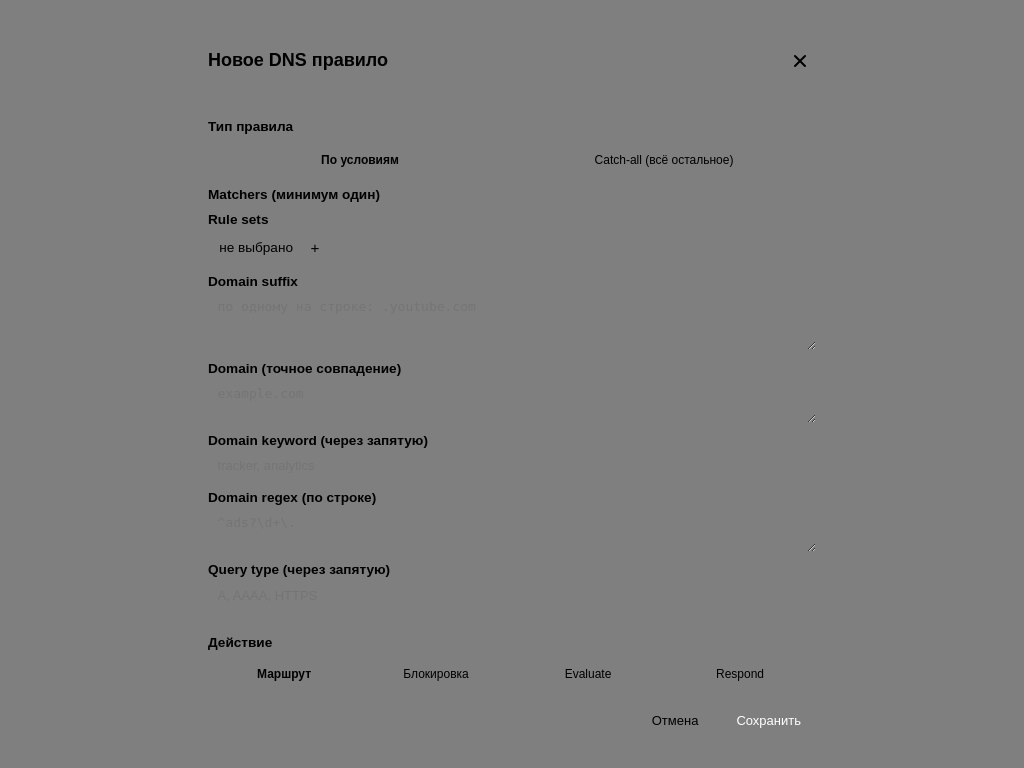
Test: DNSRuleEditModal › не предлагает geoip и IP rule-set для DNS-правила
What coordinates should you click on to do the following:
click the button "+"
I would click on:
 (315, 247)
Its box is [302,237,328,257].
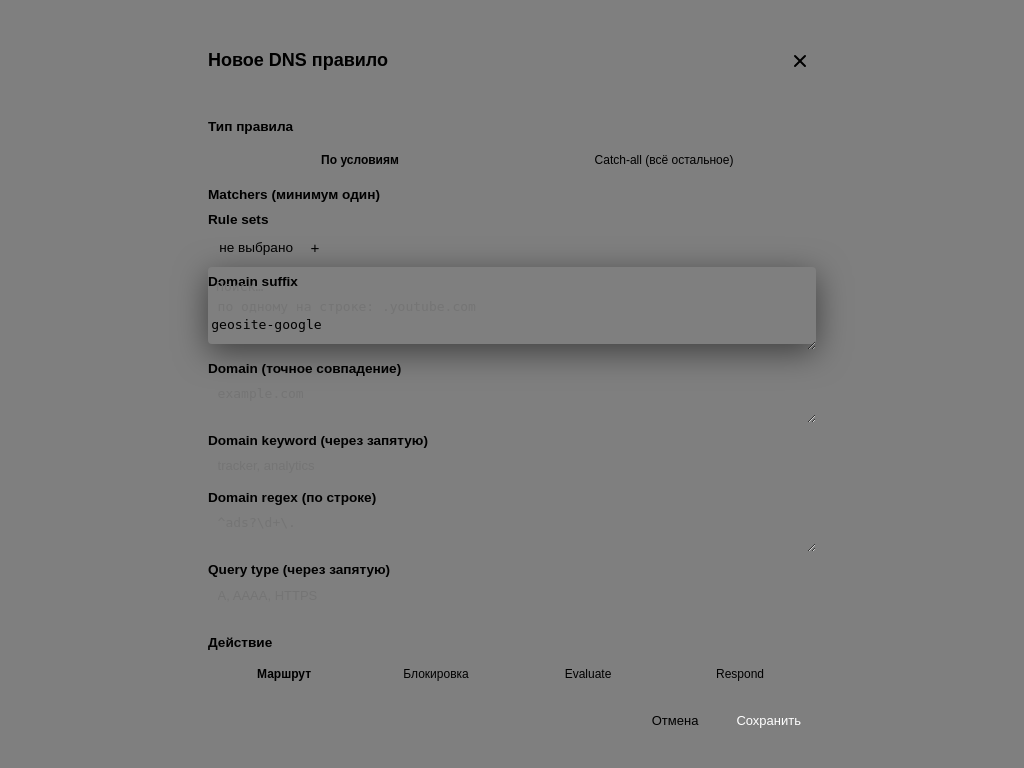
Expected: the options read "geosite-google", in this order, [208,310,808,340]
